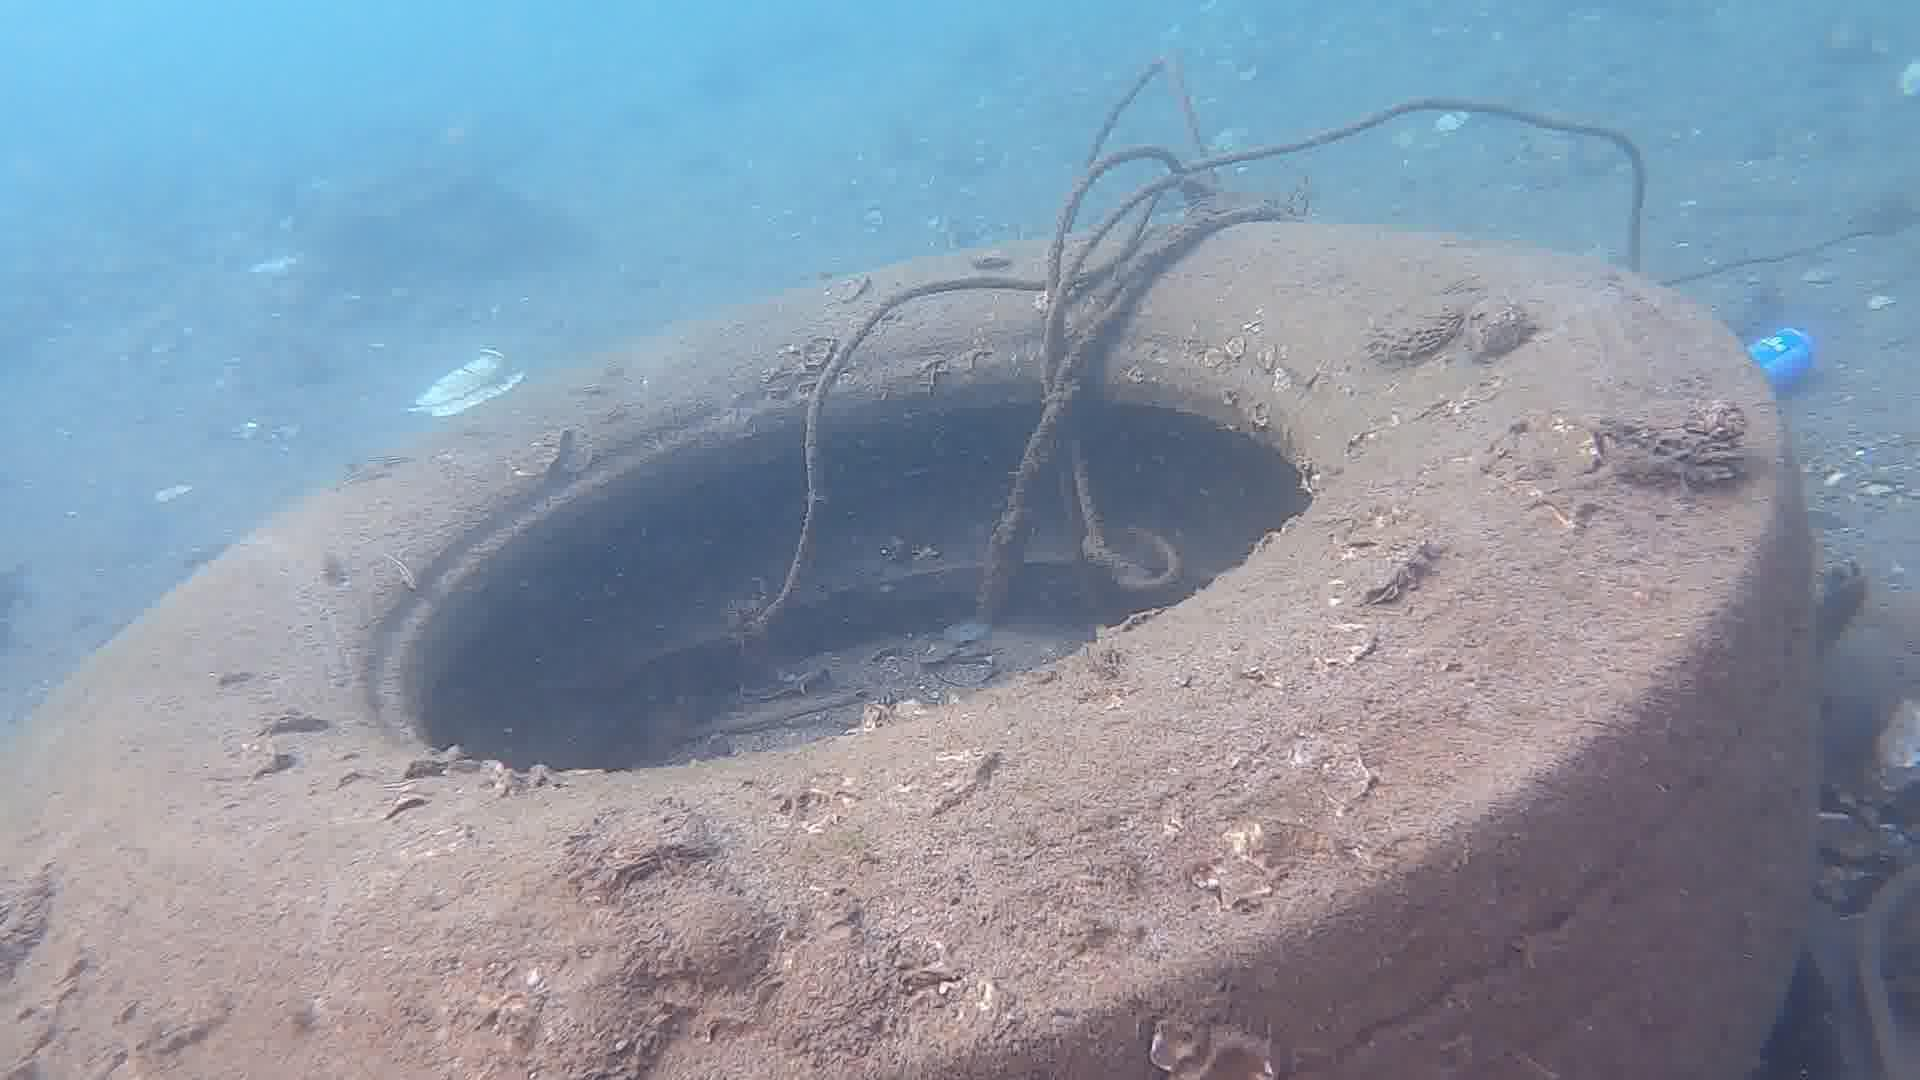bundle of ropes: (764, 51, 1647, 618)
tire: (0, 222, 1812, 1080)
